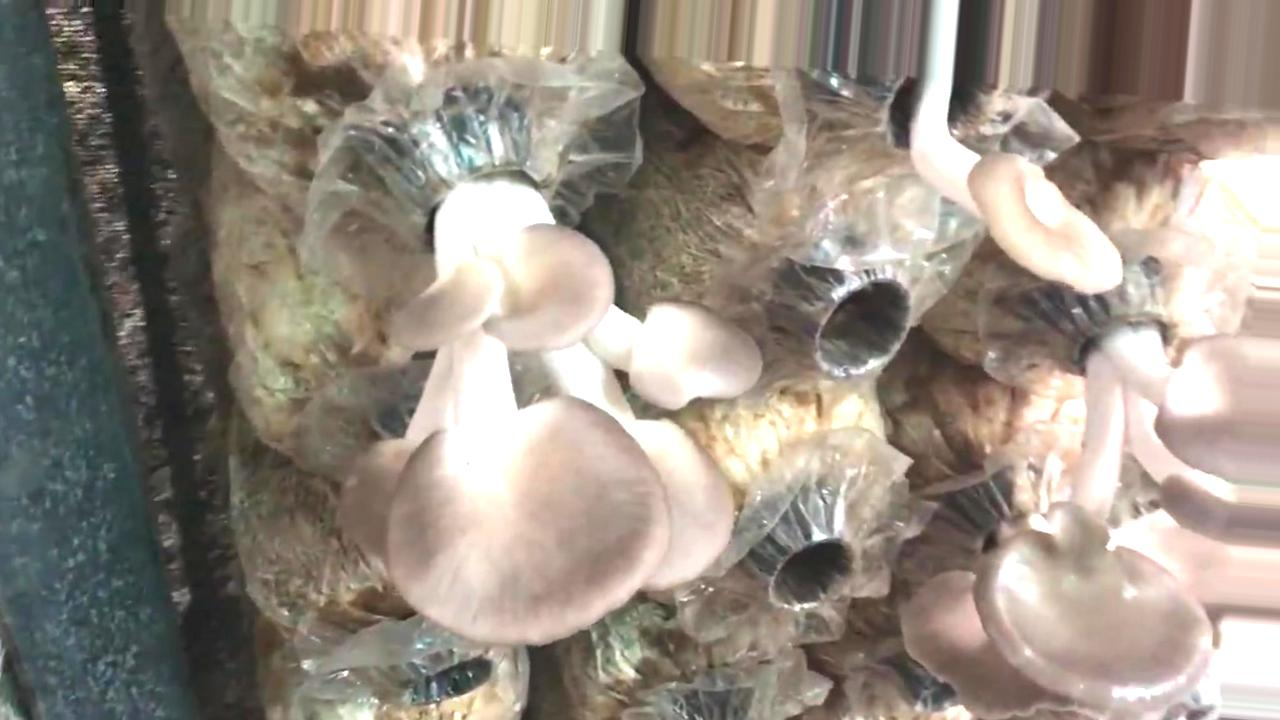nam: (338, 113, 760, 638), (900, 273, 1280, 715), (867, 1, 1122, 296)
